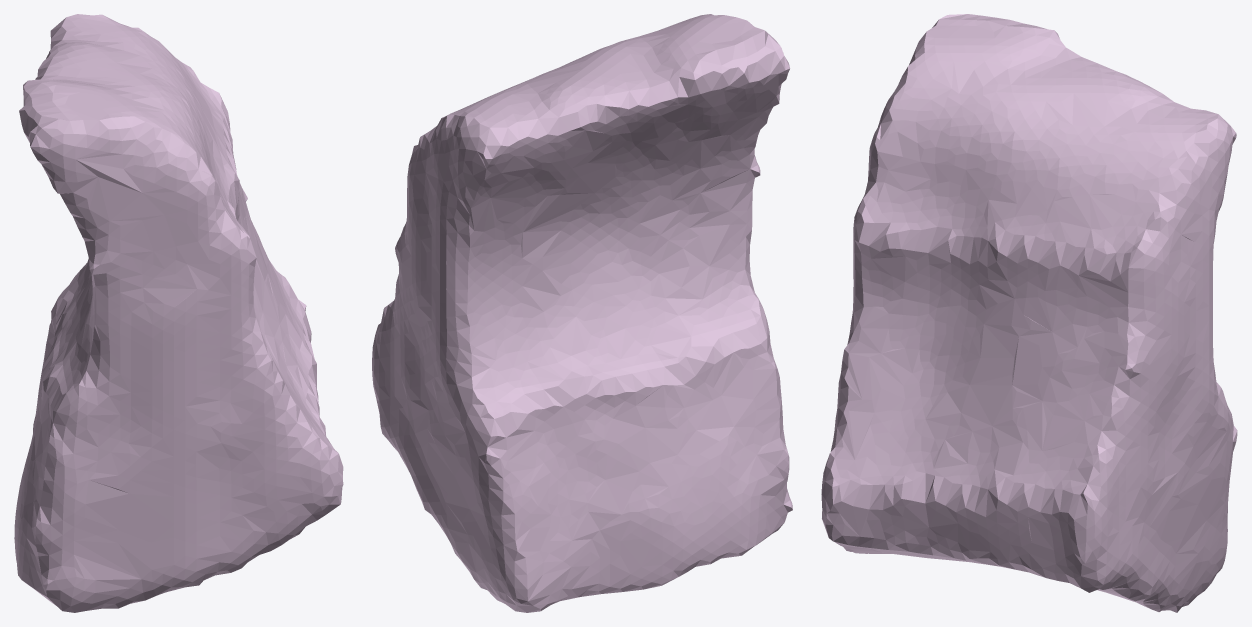
The model's file is Model_10097_LH__Medial_intraparietal_area_of_cortex_(MIP).obj.
The picture shows the model from 3 angles, left to right: view 1: azimuth 30°, elevation 25°; view 2: azimuth 150°, elevation 25°; view 3: azimuth 270°, elevation 25°; orthographic projection. The views are drawn at different scales.
Bounding box in the file's own units: 2.64 × 3.72 × 2.71.
